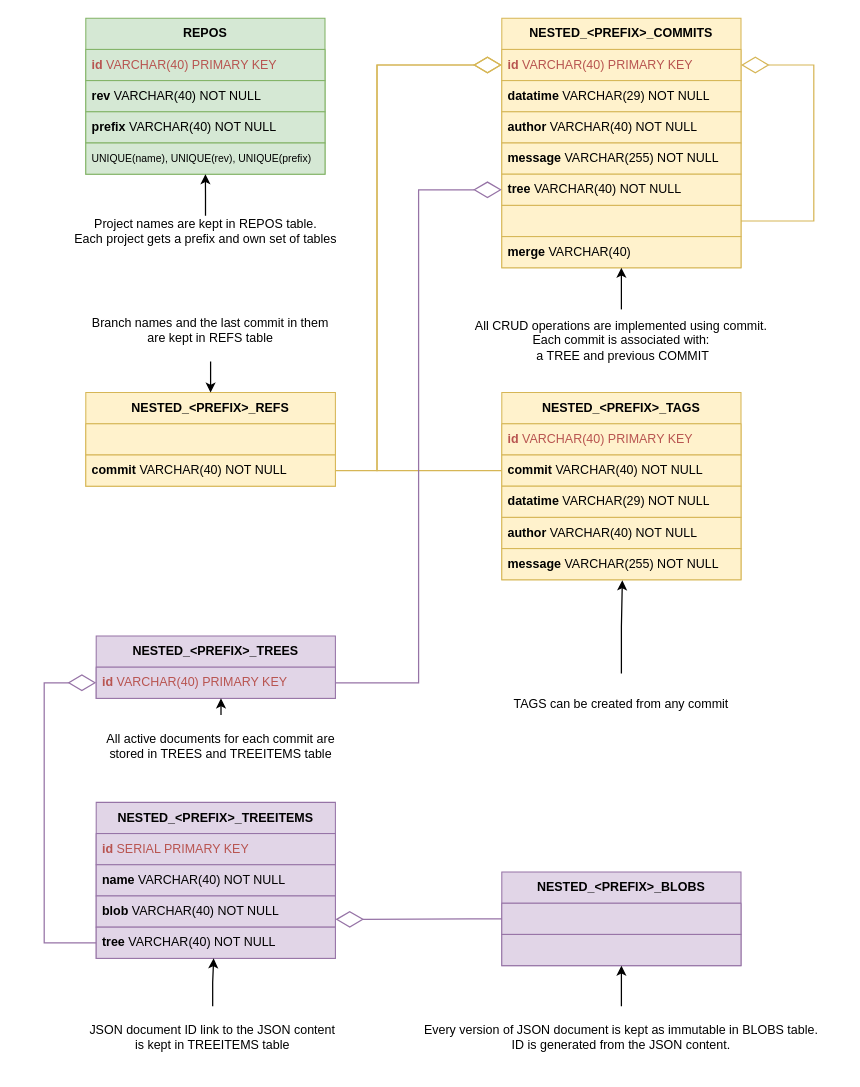
The diagram is 860 pixels wide and 1087 high, and some of its shapes have lost their labels. The shapes that lost their labels are listed below. From the top down, each one's centre as x and y in pixels, then its label:
the point at 621,220: parent VARCHAR(40)
the point at 210,439: name VARCHAR(100) PRIMARY KEY
the point at 621,918: id VARCHAR(40) NOT NULL
the point at 621,949: value TEXT/JSONB NOT NULL
